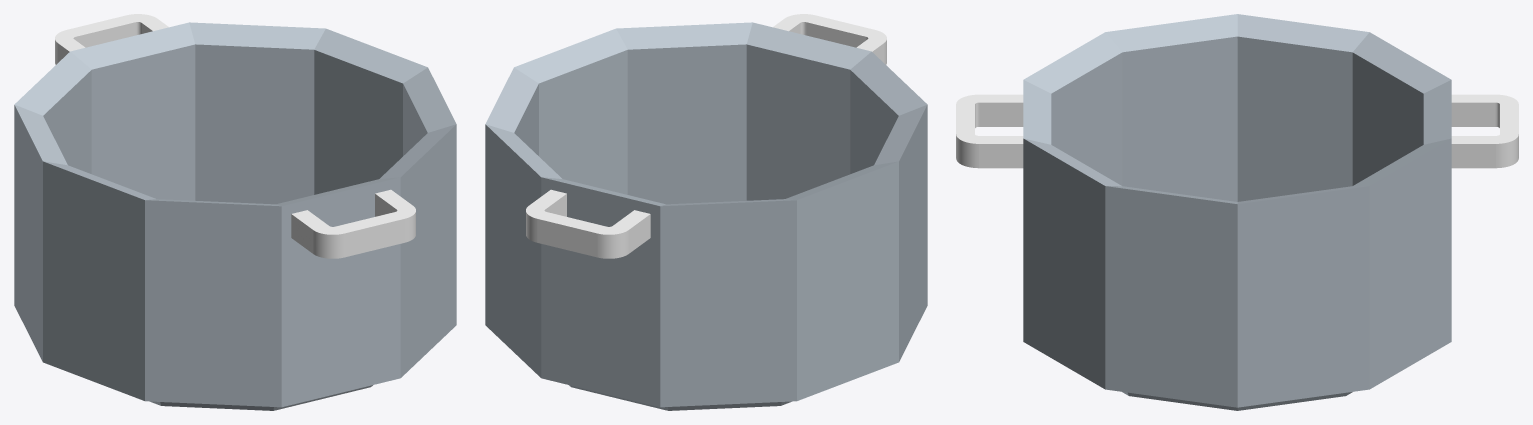
Rendered from pot.glb.
3 renders of one model, left to right at view 1: azimuth 30°, elevation 25°; view 2: azimuth 150°, elevation 25°; view 3: azimuth 270°, elevation 25°, orthographic.
Visible parts, largest first — view 1: pot; view 2: pot; view 3: pot.
Part boxes in pixels (x1,y1,x2,y2): pot: [14, 14, 456, 410]; pot: [485, 14, 927, 410]; pot: [956, 14, 1518, 410].
Size of the model in its own units: 0.6574 by 0.3608 by 0.8221.
